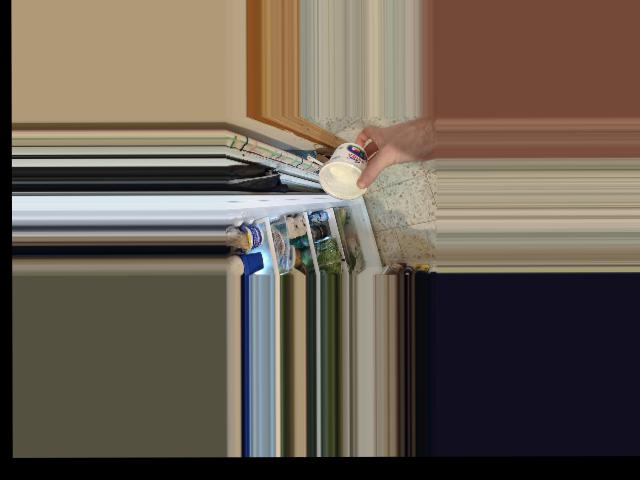cotage: (312, 140, 373, 199)
